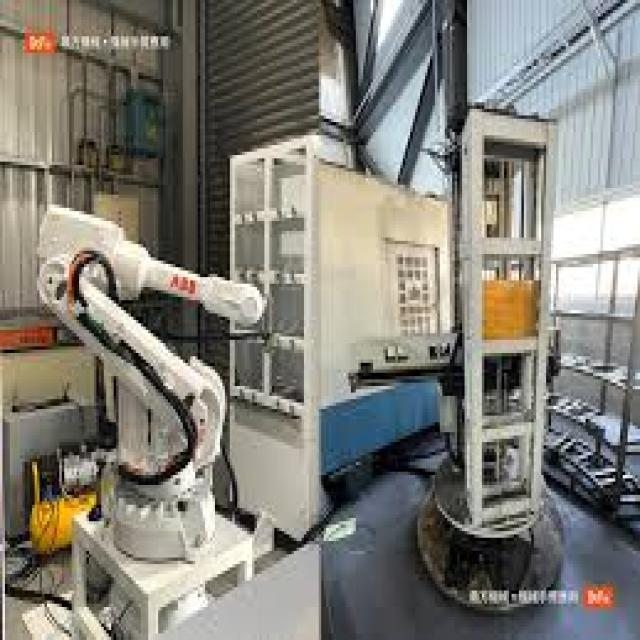Robotic-arm: (36, 188, 275, 571)
